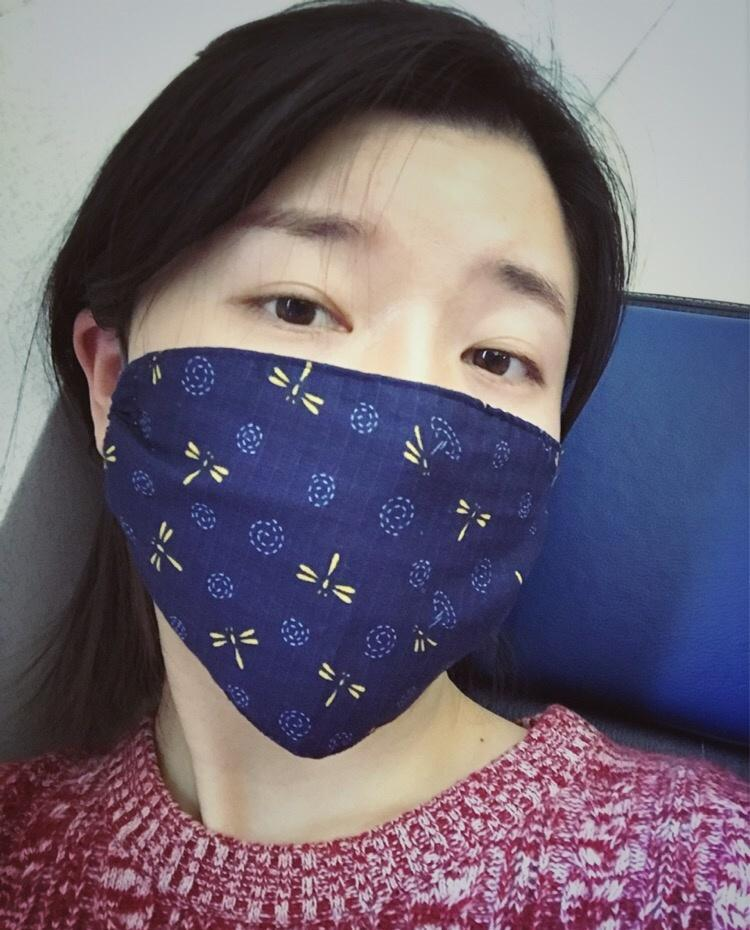OK: (93, 212, 595, 752)
